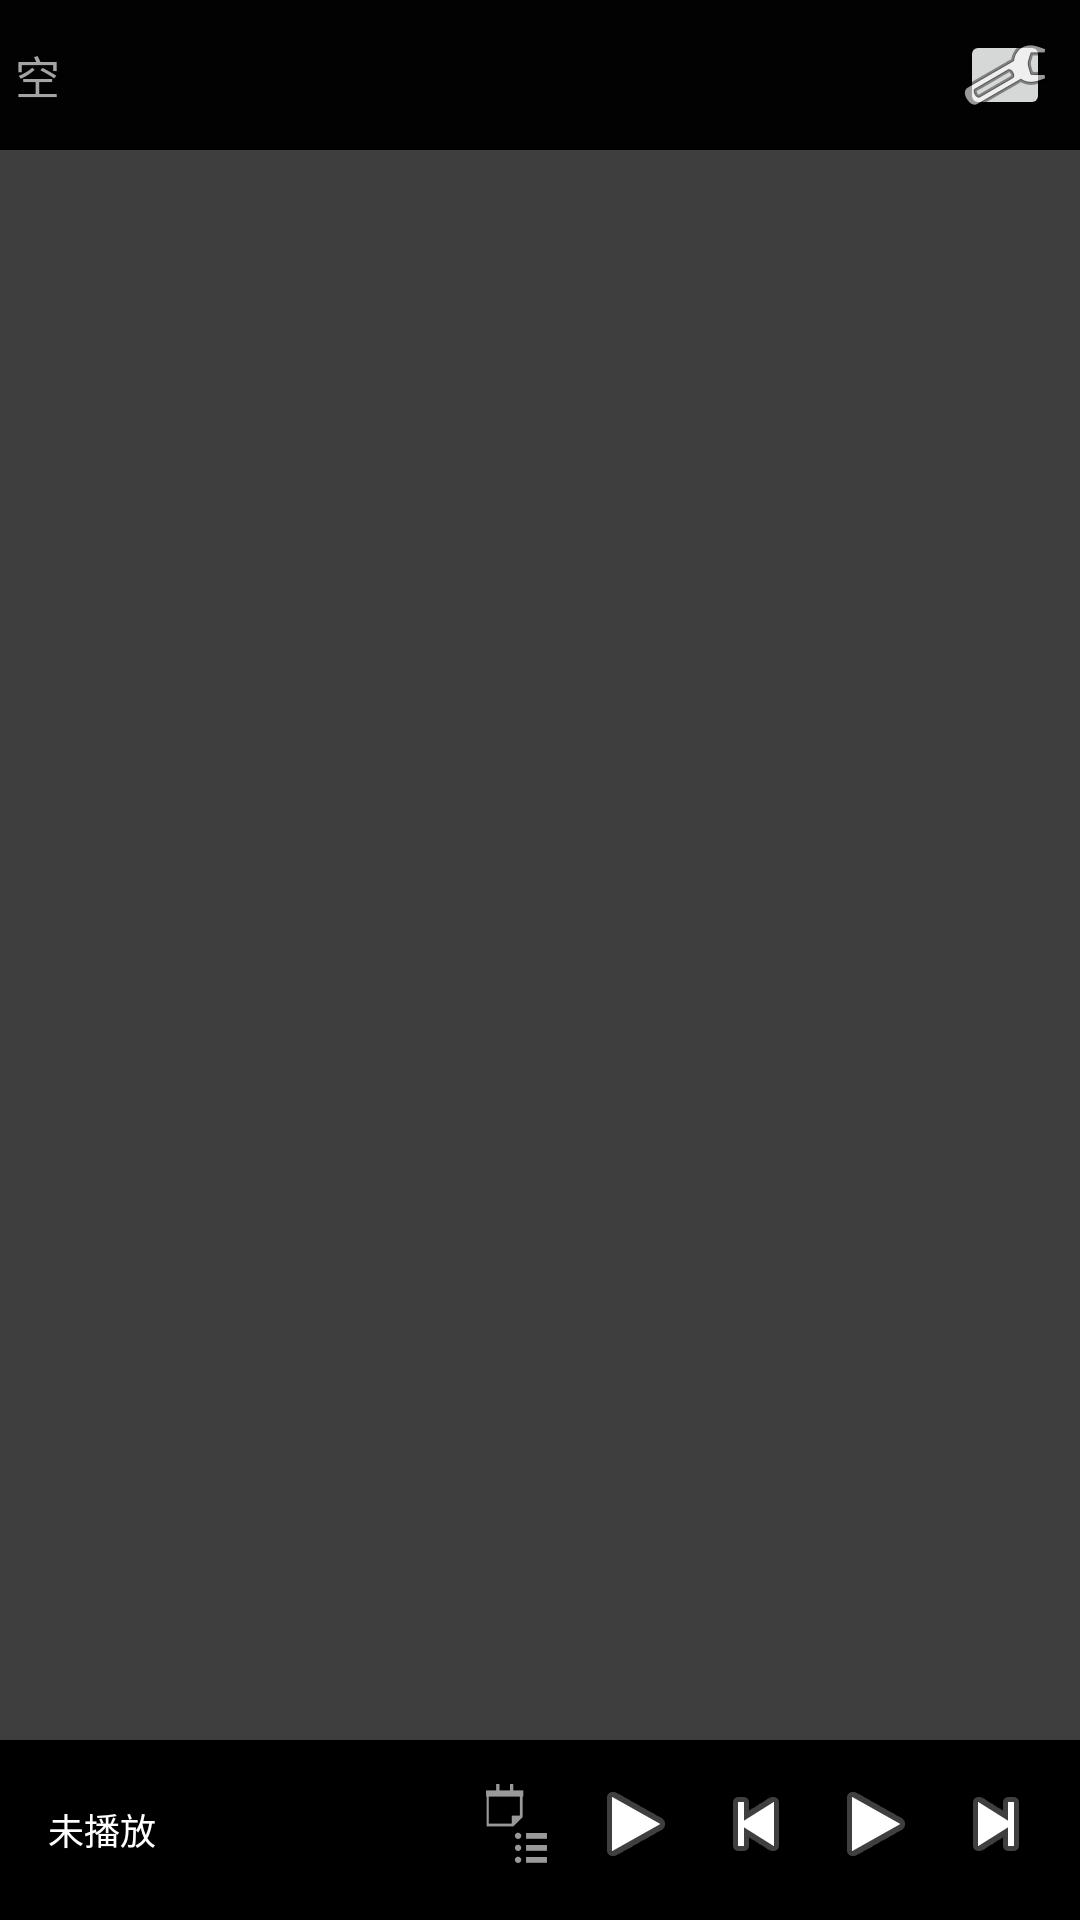

Icon bounding boxes for this 1080w x 1920h phone screenshot, format (x1, y1, x2, y2):
manage: (965, 45, 1045, 105)
上一首: (733, 1797, 779, 1851)
下一首: (973, 1797, 1019, 1851)
